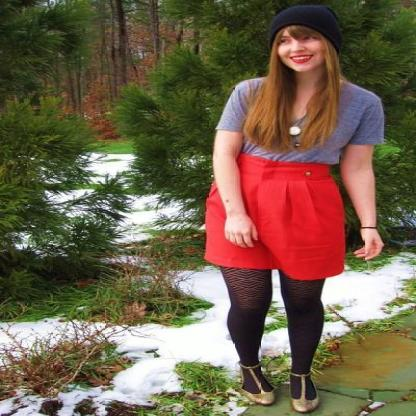hat: (281, 11, 351, 51)
shirt: (215, 78, 385, 167)
shoe: (237, 380, 273, 403)
skirt: (203, 155, 348, 280)
